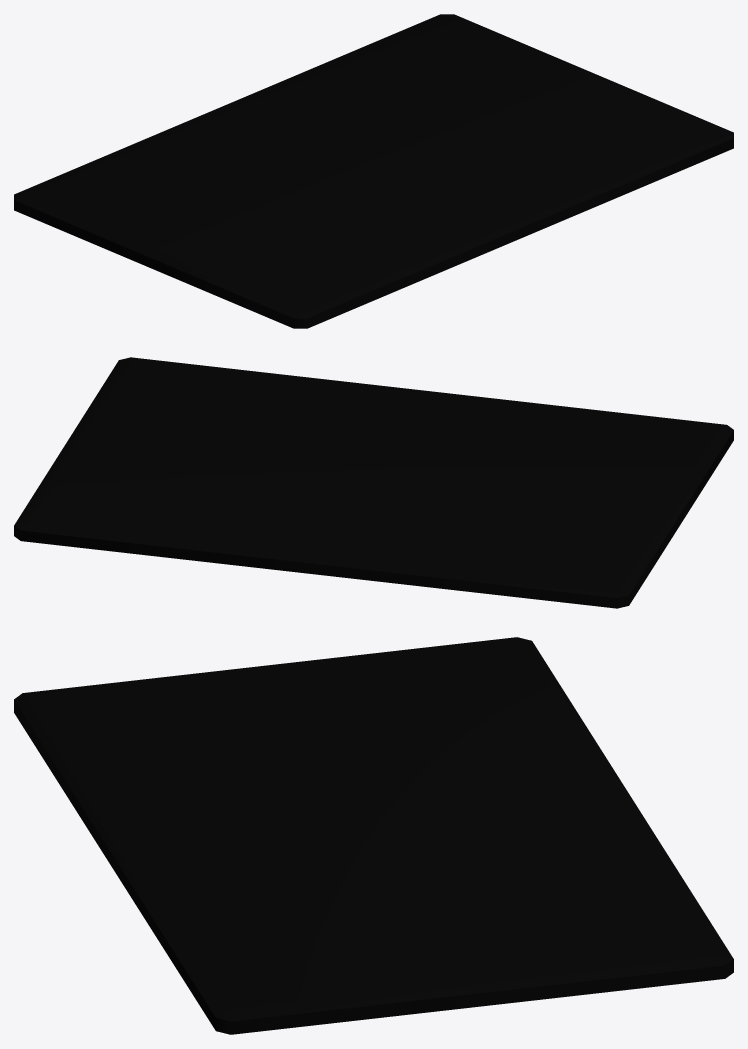
3 views of the same model, one above another, from view 1: azimuth 30°, elevation 25°; view 2: azimuth 150°, elevation 25°; view 3: azimuth 270°, elevation 25° (orthographic). The views are drawn at different scales.
Parts seen in each view (by area): view 1: Joint_0_Object_0; view 2: Joint_0_Object_0; view 3: Joint_0_Object_0.
Part boxes in pixels (bbox=[...]): Joint_0_Object_0: bbox=[14, 14, 733, 328]; Joint_0_Object_0: bbox=[14, 357, 733, 608]; Joint_0_Object_0: bbox=[14, 637, 733, 1034].
Size of the model in its own units: 1866 by 50 by 1477.
1 material, 1 textured.
